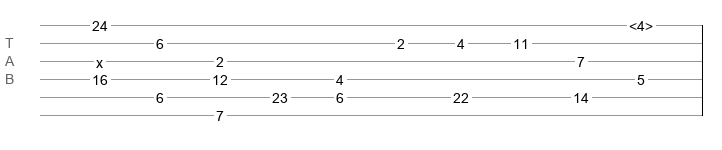11: (513, 36, 529, 46)
12: (212, 72, 228, 82)
14: (573, 90, 589, 100)
16: (92, 72, 108, 82)
2: (216, 54, 224, 64), (397, 36, 405, 46)
22: (453, 90, 469, 100)
23: (272, 90, 288, 100)
24: (92, 18, 108, 28)
4: (336, 72, 344, 82), (457, 36, 465, 46)
5: (637, 72, 645, 82)
6: (156, 90, 164, 100), (156, 36, 164, 46), (336, 90, 344, 100)
7: (216, 108, 224, 118), (577, 54, 585, 64)
harmonic: (629, 18, 653, 28)
x: (96, 55, 103, 63)
